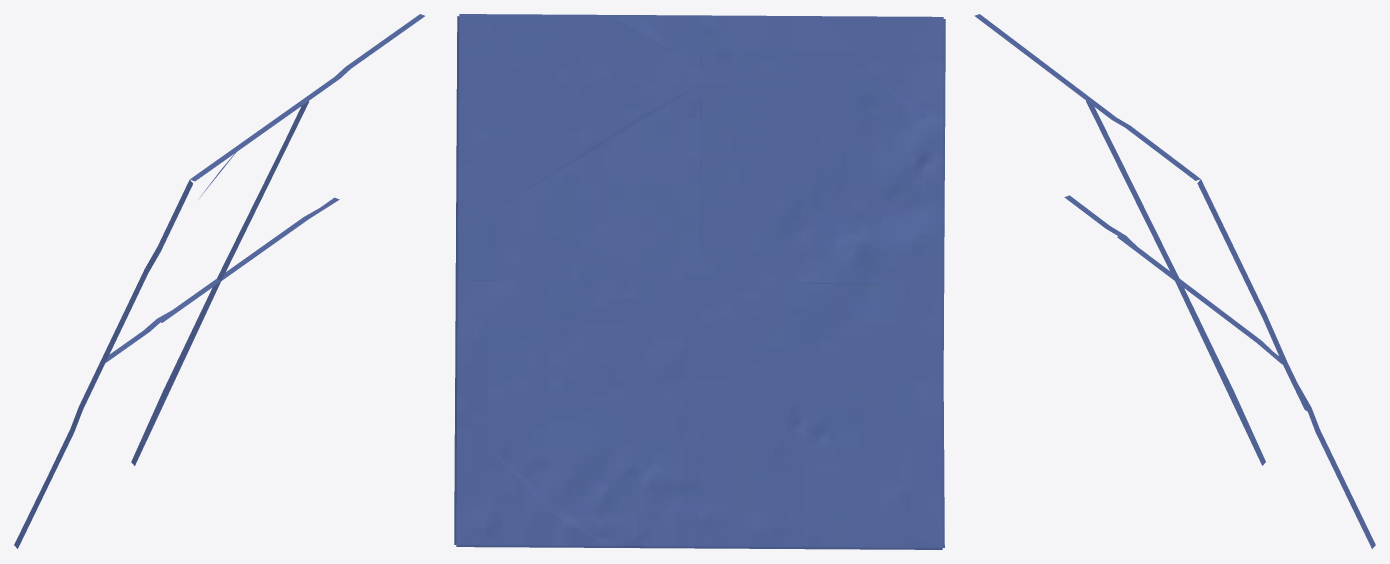
3 views of the same model, side by side, from view 1: azimuth 30°, elevation 25°; view 2: azimuth 150°, elevation 25°; view 3: azimuth 270°, elevation 25° (orthographic). The views are drawn at different scales.
Bounding box in the file's own units: 79039 × 72121 × 63891.
Materials: 1 (1 with a texture image).
